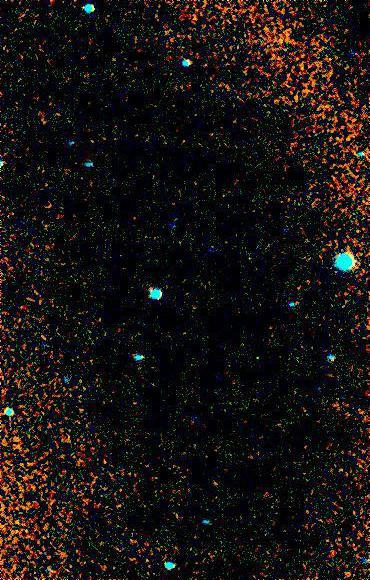star: (3, 426, 33, 456)
